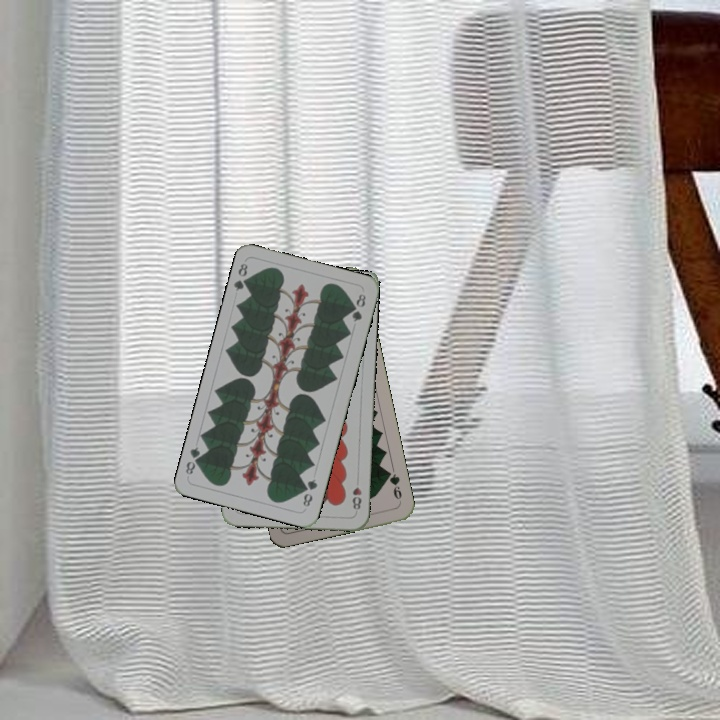G8: (230, 259, 253, 294), (299, 475, 320, 509)
G9: (383, 467, 404, 502)
H8: (348, 474, 364, 512)
